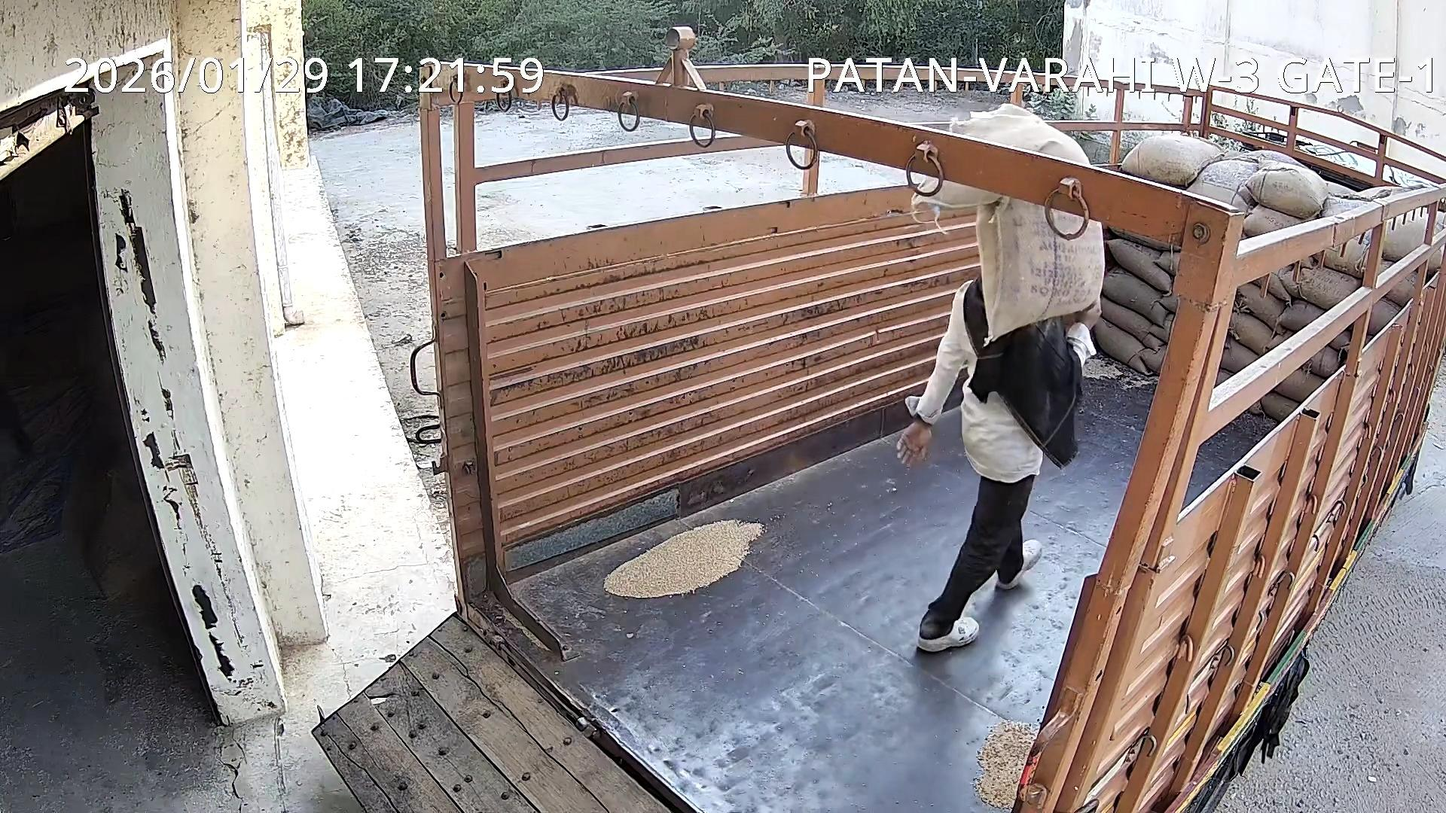Sack: (912, 180, 1105, 338), (951, 105, 1088, 167)
